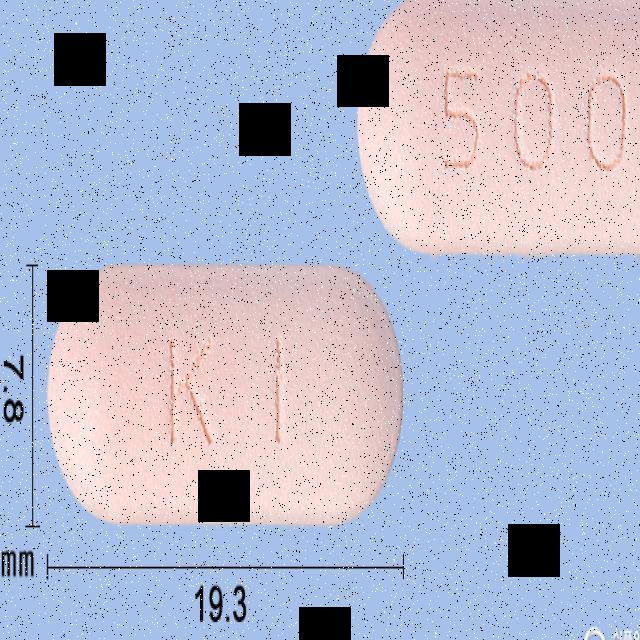Levogun - 500mg: (47, 261, 404, 531), (356, 0, 640, 252)
